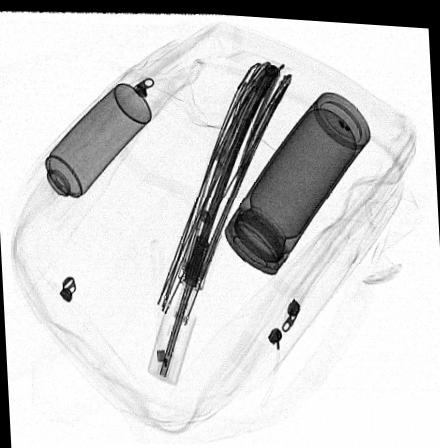Sprayer: (28, 81, 151, 225)
